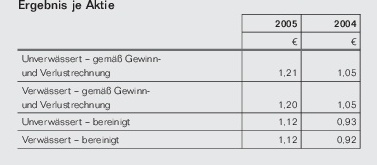table: (0, 0, 377, 165)
